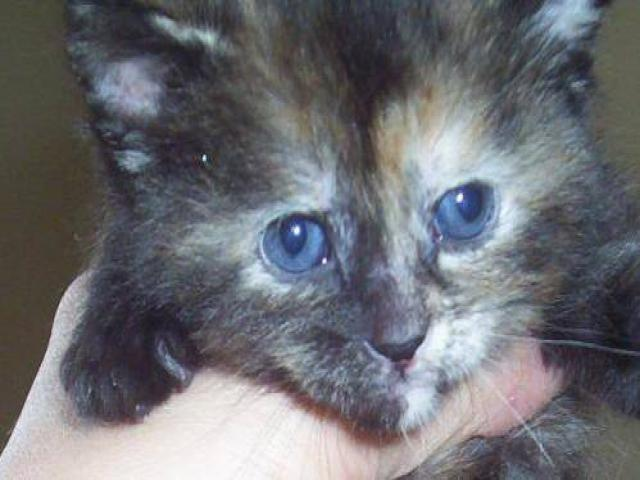cat: (26, 3, 634, 471)
